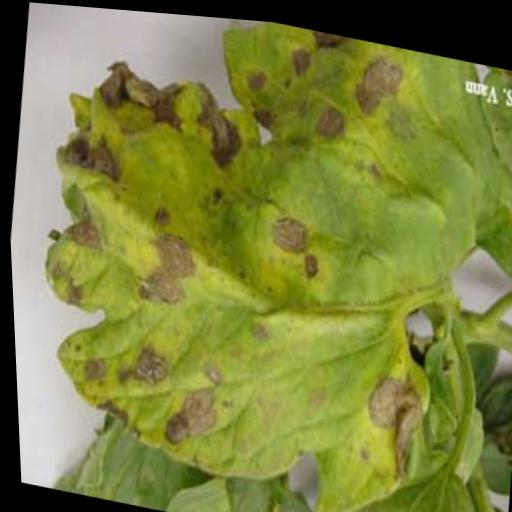Early Blight: (12, 1, 507, 512)
